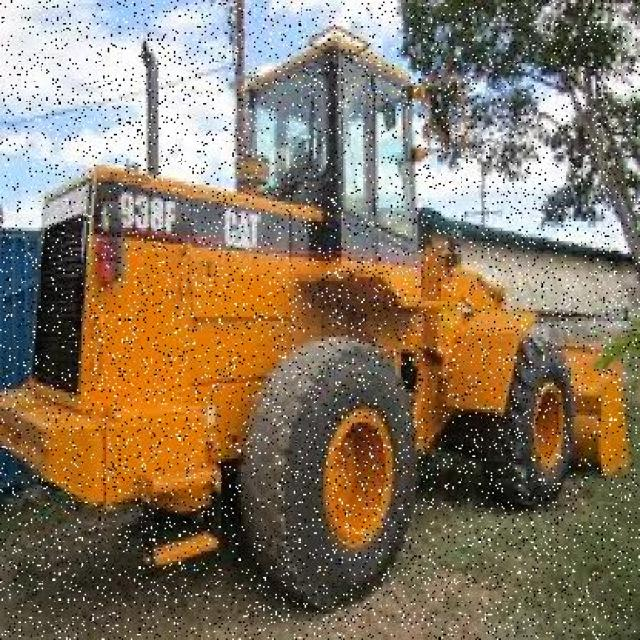buldozerpayloadergrader: (11, 25, 632, 597)
